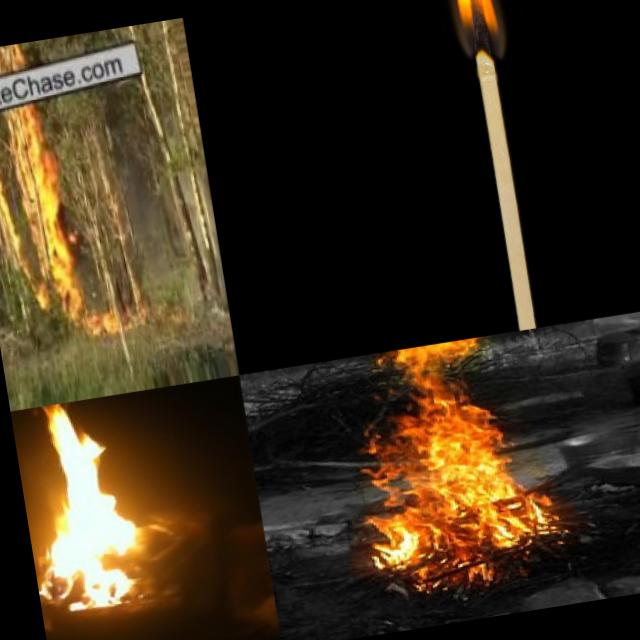fire: (330, 328, 570, 586), (11, 395, 159, 620), (0, 116, 99, 349), (439, 0, 518, 59)
